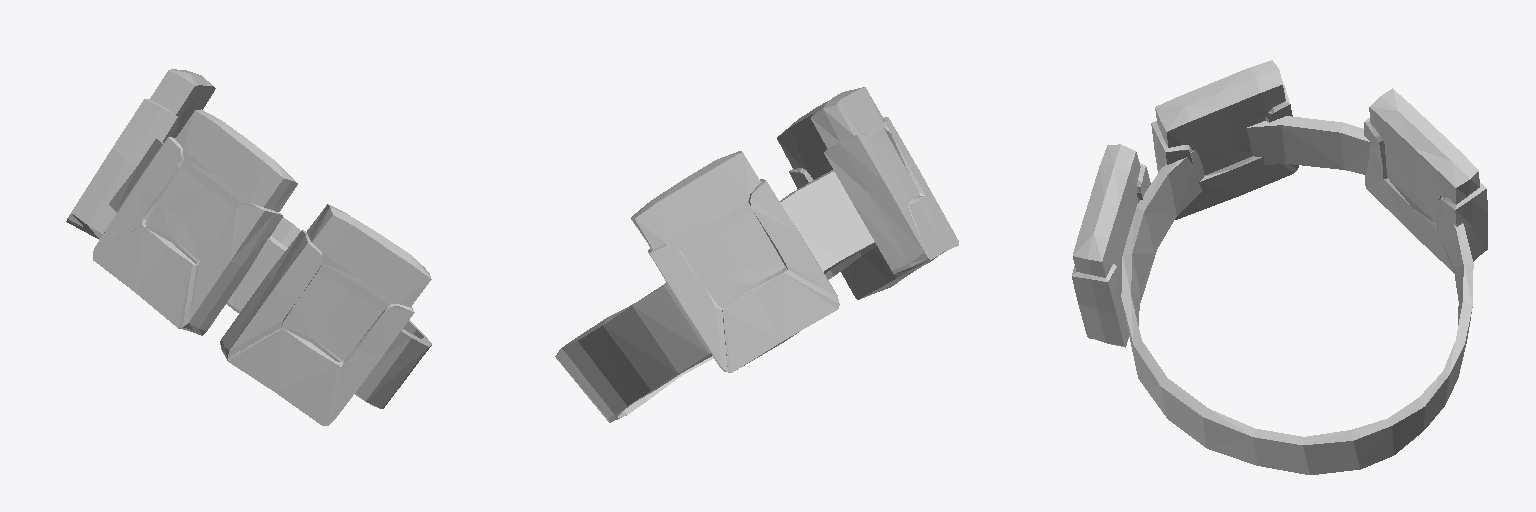
Rendered from Bicep ammo.obj.
3 renders of one model, left to right at view 1: azimuth 30°, elevation 25°; view 2: azimuth 150°, elevation 25°; view 3: azimuth 270°, elevation 25°, orthographic.
Parts seen in each view (by area): view 1: biceppouch_left; view 2: biceppouch_left; view 3: biceppouch_left.
Part boxes in pixels (left/top/right/bottom): biceppouch_left: left=66, top=69, right=431, bottom=425; biceppouch_left: left=555, top=87, right=958, bottom=422; biceppouch_left: left=1072, top=60, right=1487, bottom=474.
Bounding box in the file's own units: 4.6 × 4.43 × 5.09.